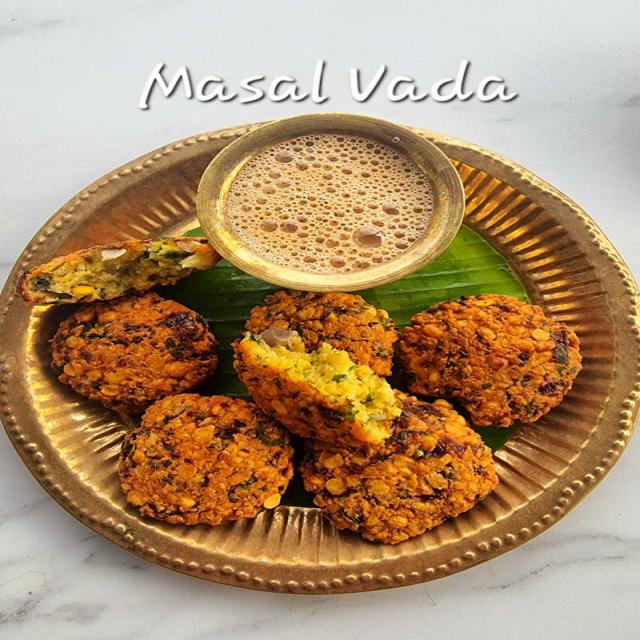VADA: (21, 237, 581, 544)
